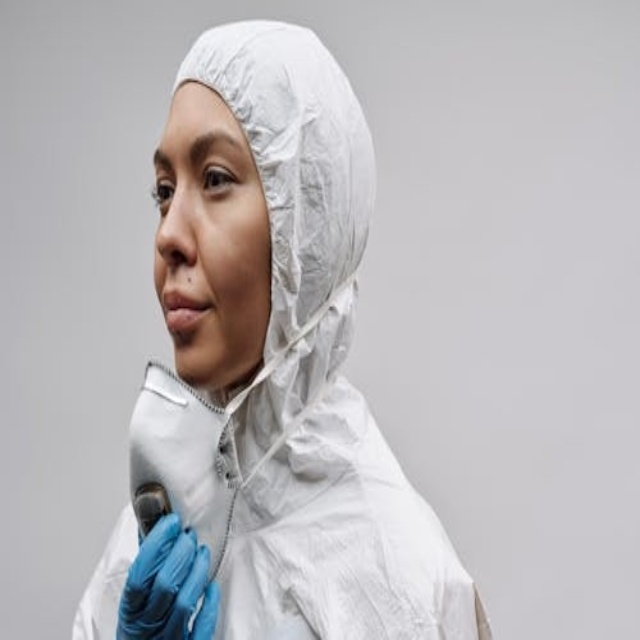Guantes: (115, 511, 220, 640)
Sin_gafas: (147, 125, 238, 218)
Sin_mascara: (154, 276, 218, 368)
